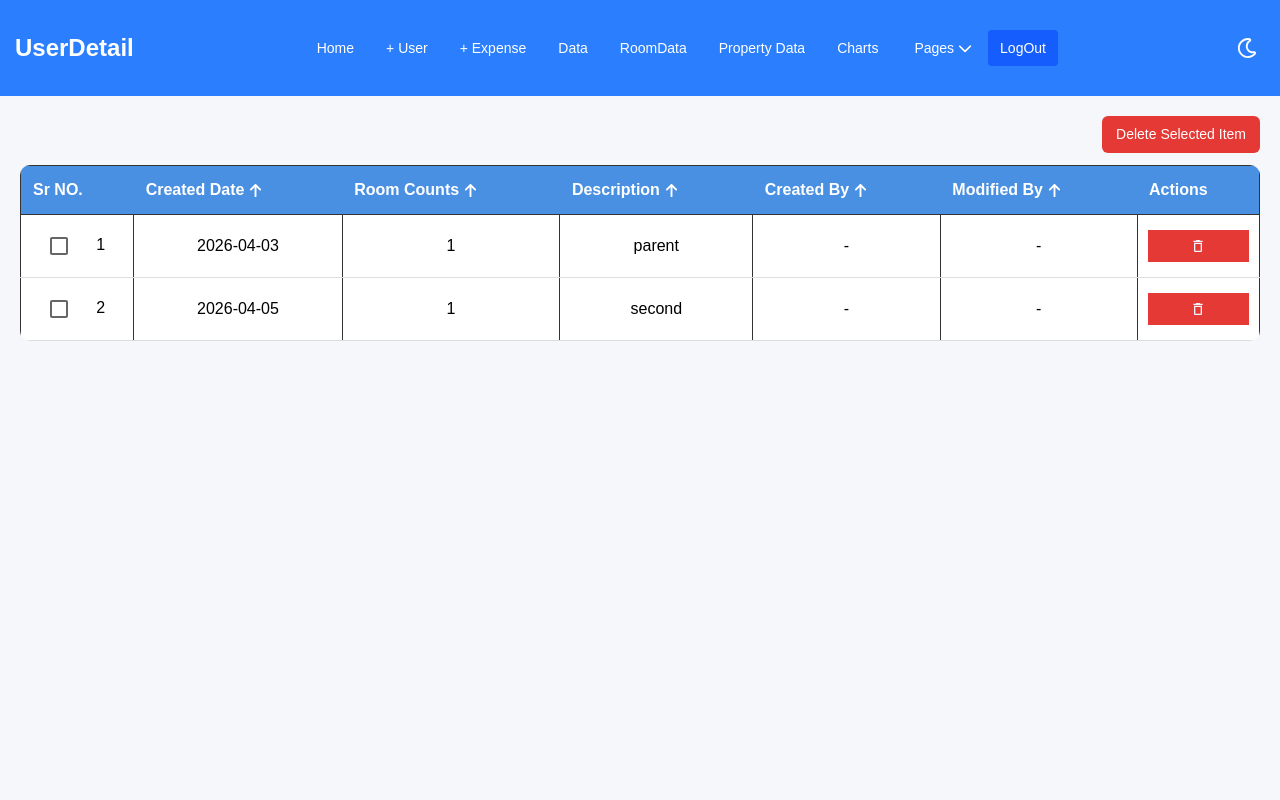
Scenario: Room Data Component › deletes multiple parent rows
Expected: the text "parent" is shown, [560, 214, 753, 278]
Click the checkbox in the row of "2026-04-03". click: coordinates (59, 246)
box: [47, 234, 71, 258]
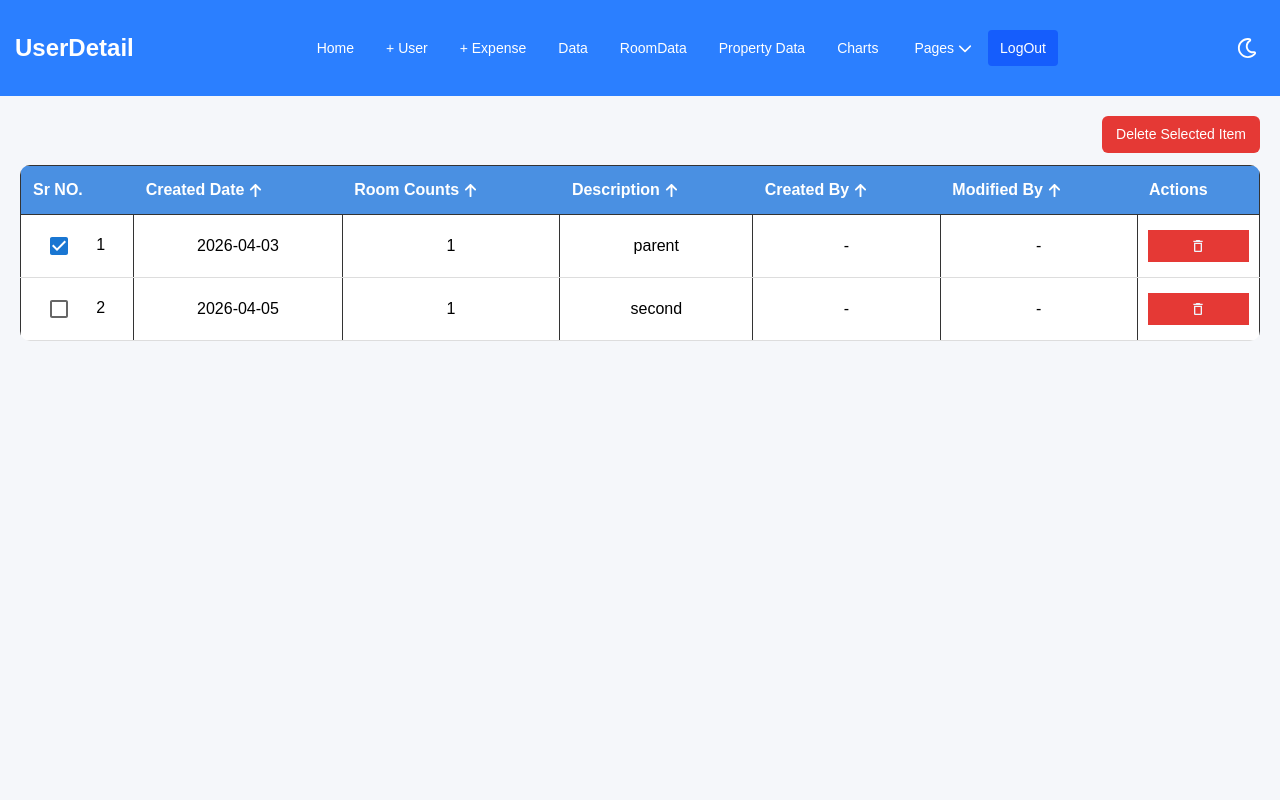
Click the checkbox in the row of "2026-04-05". click: coordinates (59, 309)
box: [47, 297, 71, 321]
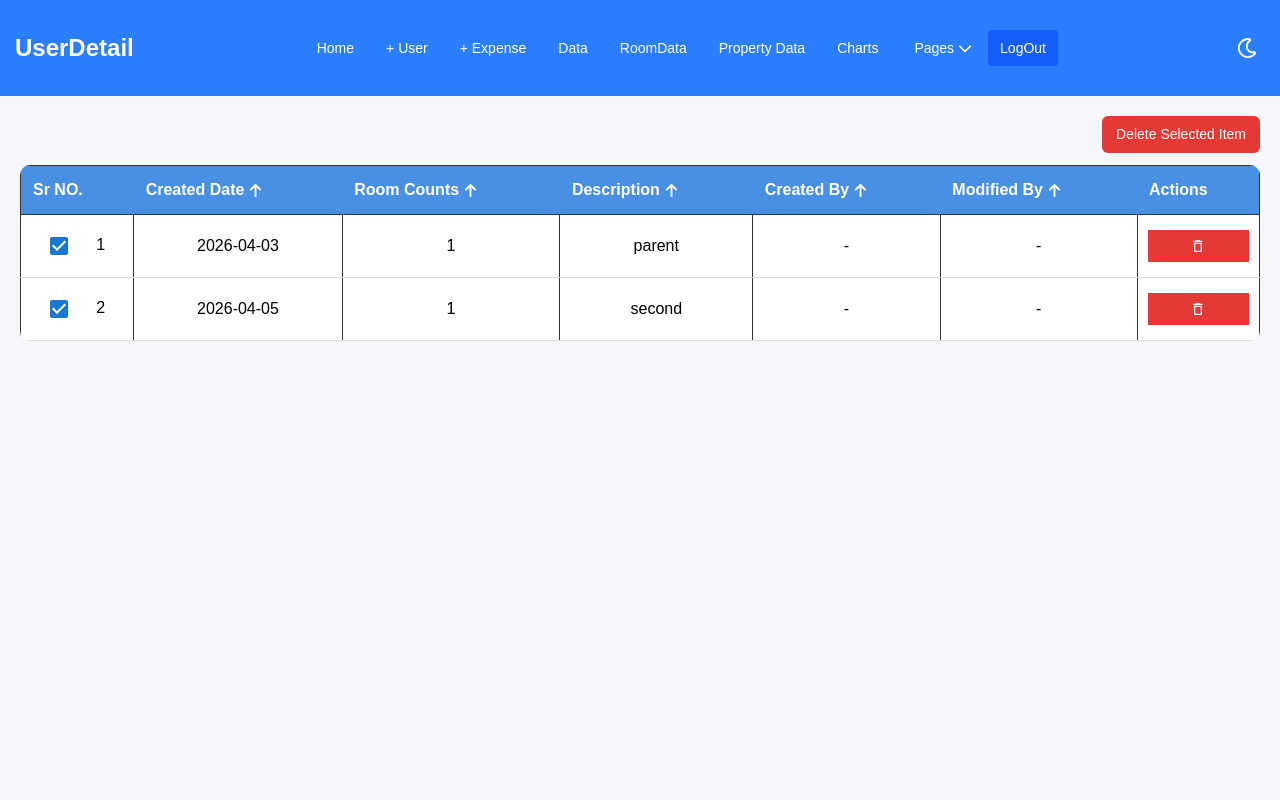
Click the button "Delete Selected Item". click: coordinates (1181, 134)
box: [1102, 116, 1260, 153]
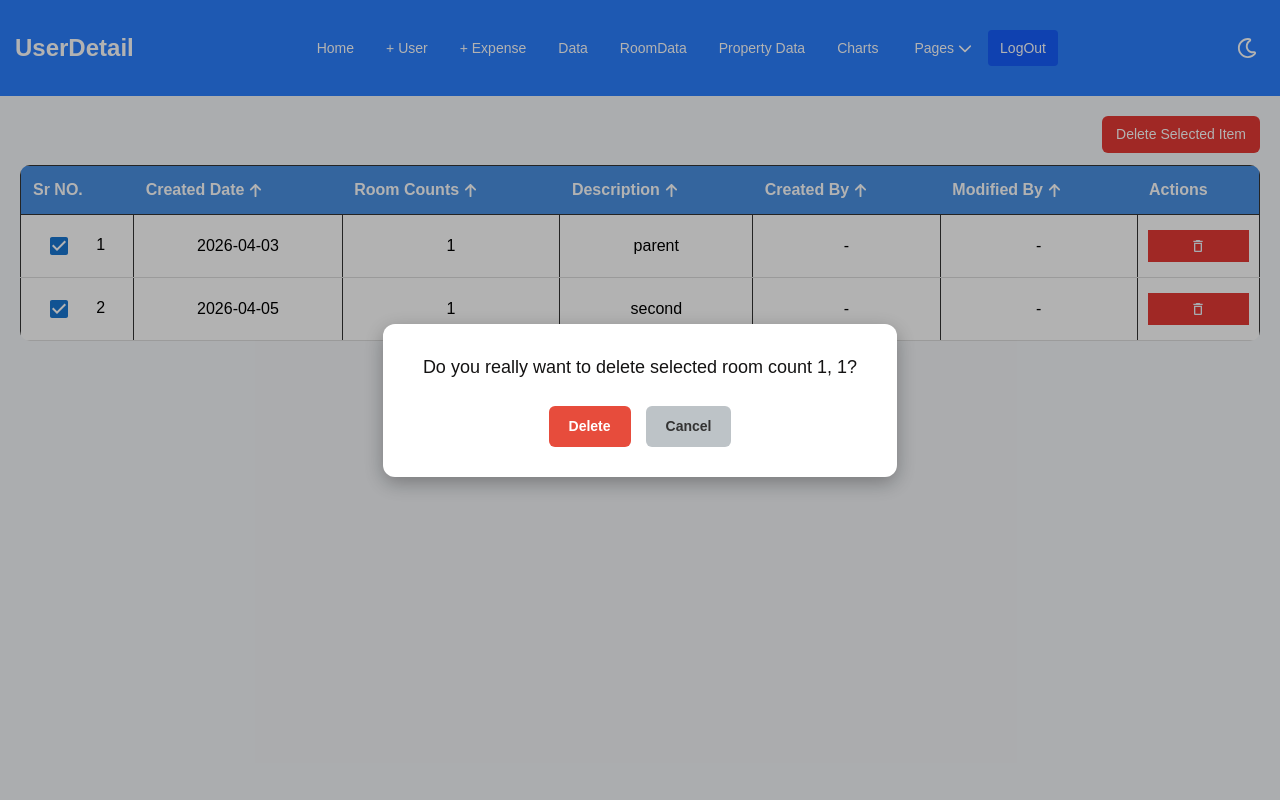
Click the button "Delete". click: coordinates (590, 426)
box: [548, 406, 630, 446]
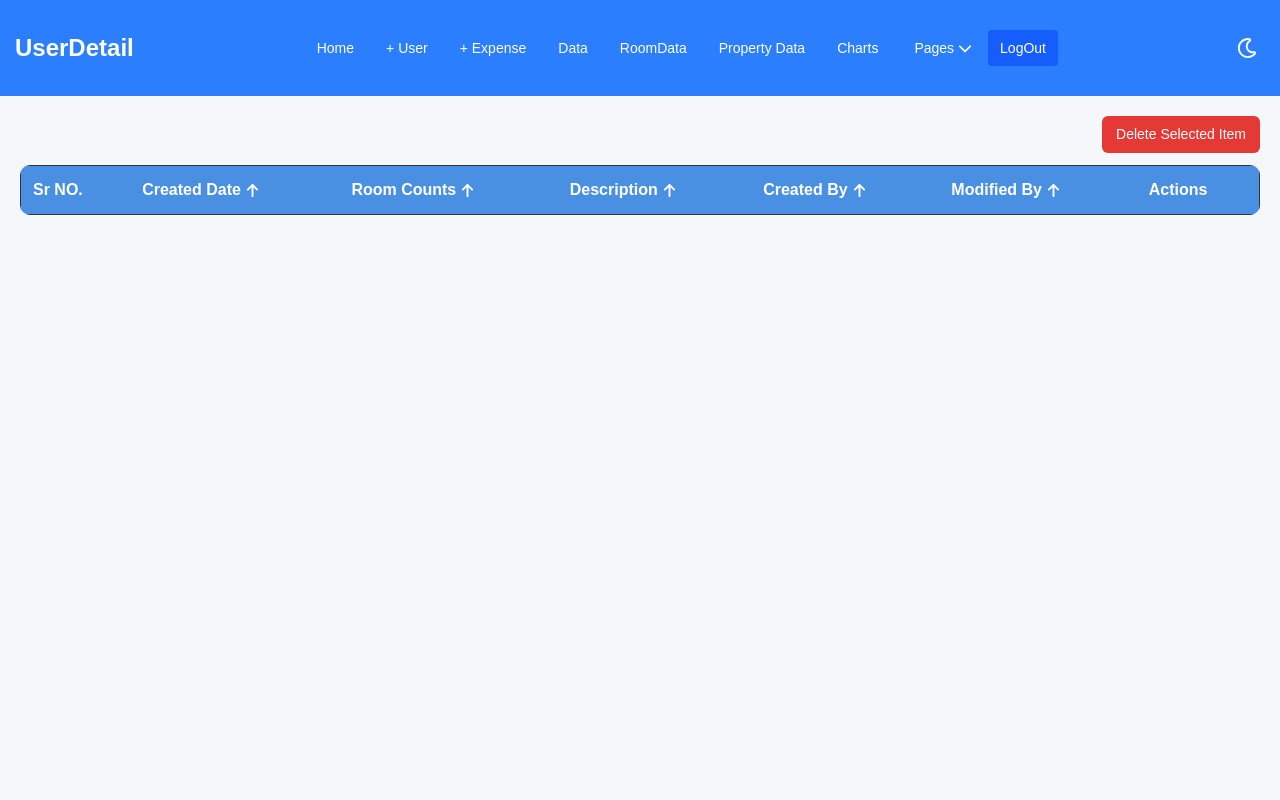
Now the text "parent" is gone
Now the text "second" is gone
